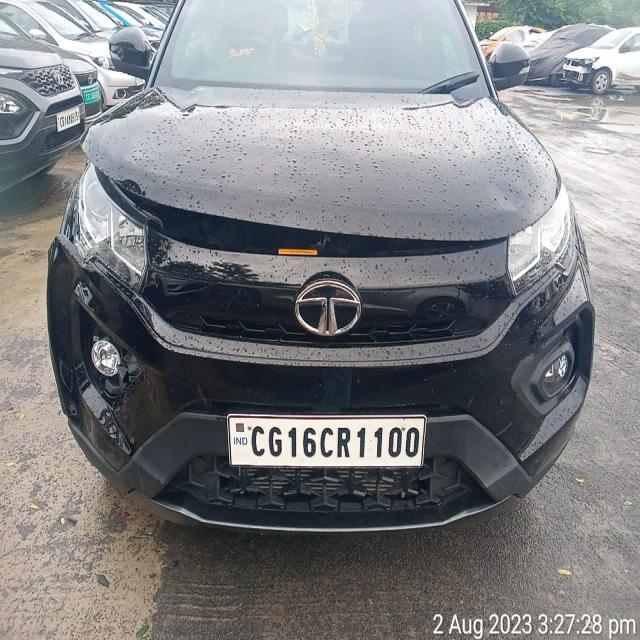damage: (73, 118, 225, 245), (71, 311, 140, 402)
